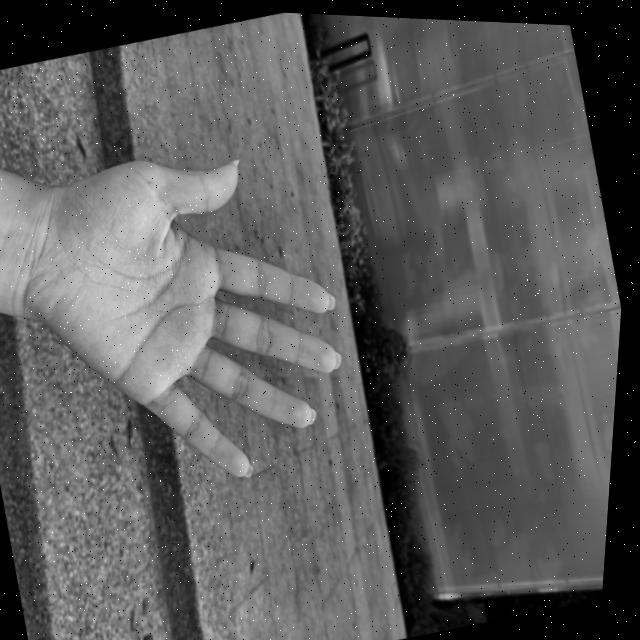hand: (0, 84, 386, 535)
